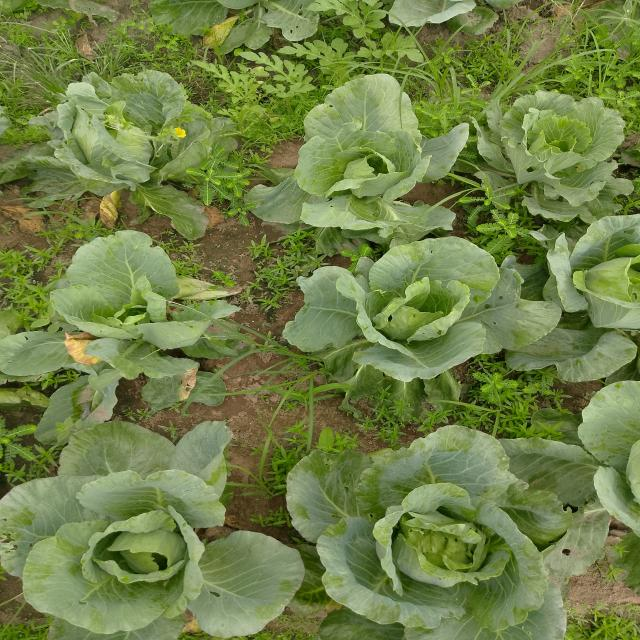Cabbage: (0, 425, 346, 640), (281, 441, 604, 638), (9, 229, 238, 408), (275, 238, 529, 390), (277, 66, 465, 240), (29, 60, 223, 212), (508, 372, 640, 535), (491, 81, 640, 211), (544, 226, 640, 395)
